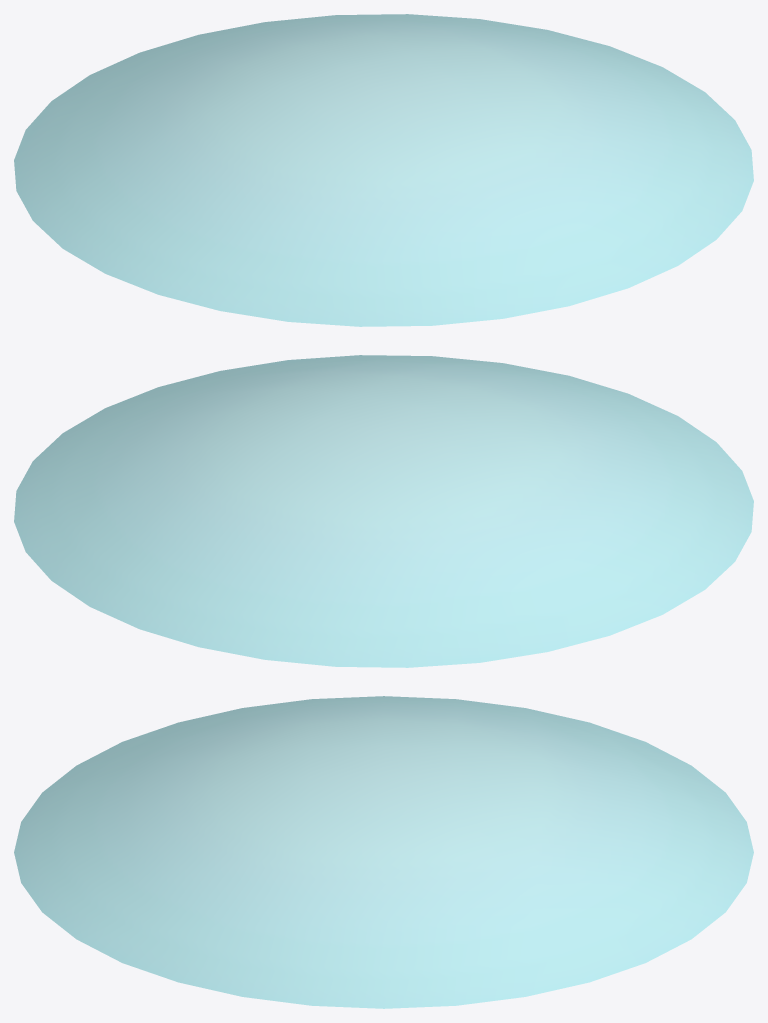
Rendered from snow_002.fbx.
3 renders of one model, top to bottom at view 1: azimuth 30°, elevation 25°; view 2: azimuth 150°, elevation 25°; view 3: azimuth 270°, elevation 25°, orthographic.
Visible parts, largest first — view 1: snow_002; view 2: snow_002; view 3: snow_002.
Boxes of the visible parts, x1,y1,x2,y2 form: snow_002: (14,14,753,326); snow_002: (14,355,753,667); snow_002: (14,696,753,1008).
Size of the model in its own units: 2415 by 2415 by 280.
